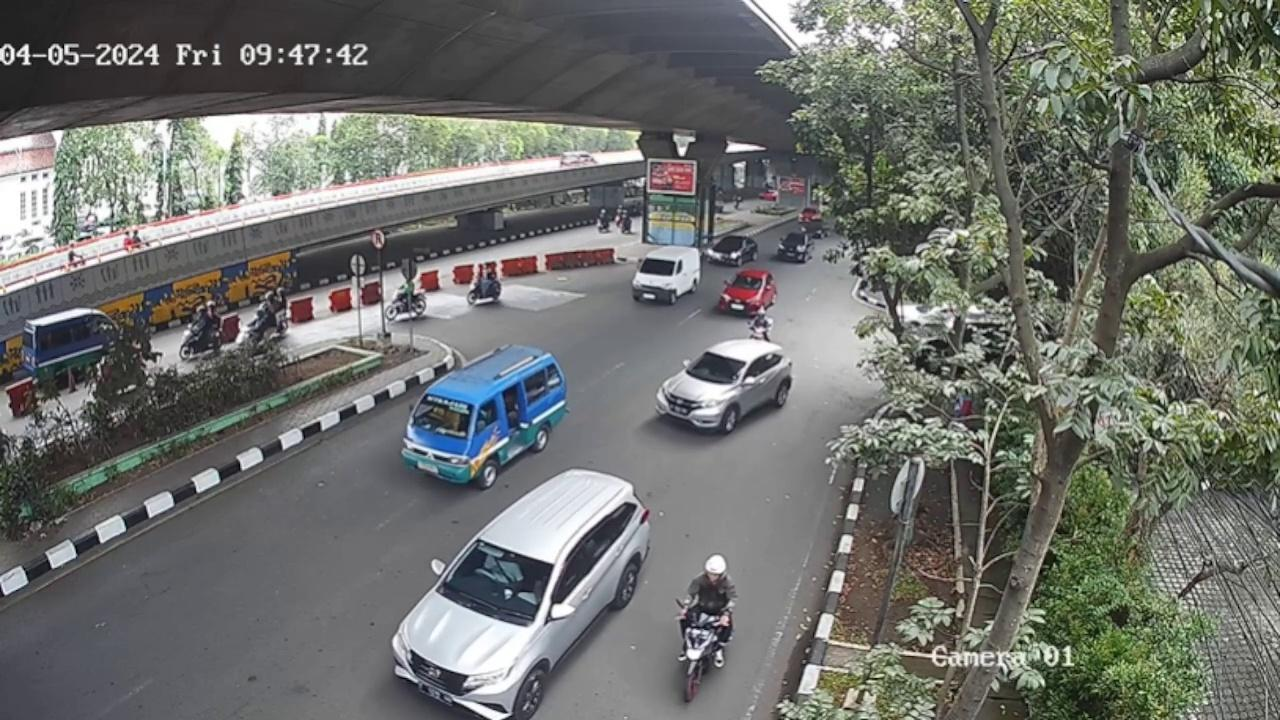pakai: (478, 550, 526, 601)
windshield: (442, 543, 554, 617), (408, 390, 480, 439), (688, 347, 750, 389)
